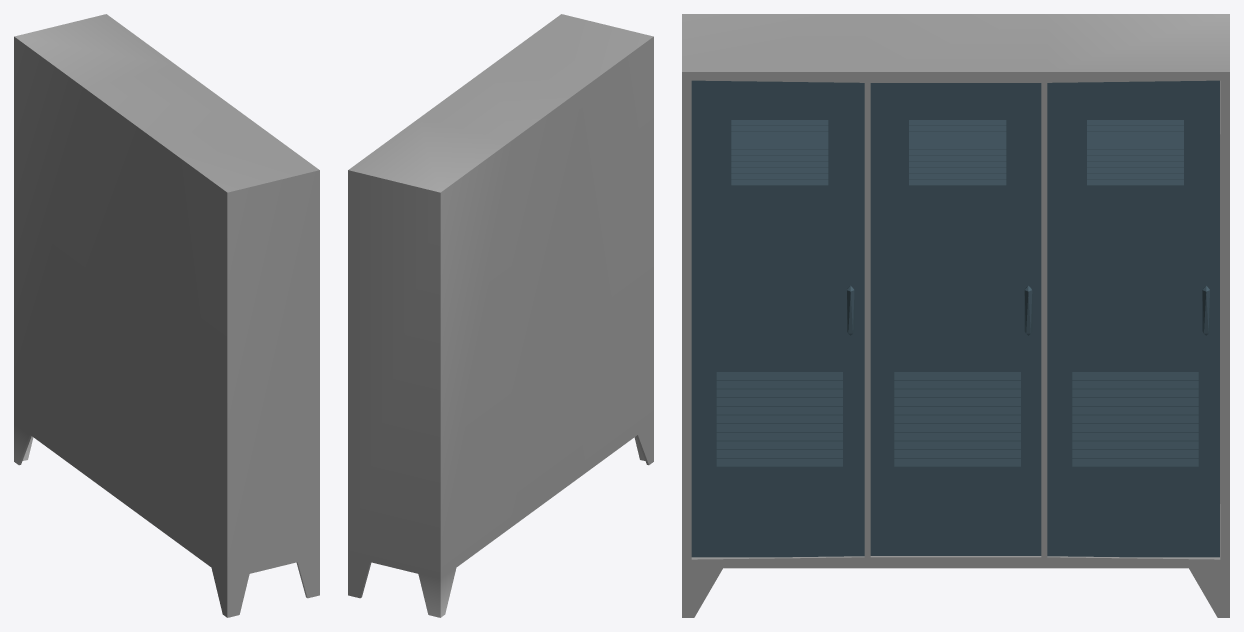
The model's file is dolap.fbx.
The picture shows the model from 3 angles, left to right: view 1: azimuth 30°, elevation 25°; view 2: azimuth 150°, elevation 25°; view 3: azimuth 270°, elevation 25°; orthographic projection. The views are drawn at different scales.
Parts seen in each view (by area): view 1: Object; view 2: Object; view 3: Object.
Boxes of the visible parts, x1,y1,x2,y2 form: Object: (14, 14, 319, 617); Object: (348, 14, 653, 617); Object: (682, 14, 1229, 617).
Size of the model in its own units: 52.13 by 220 by 200.
